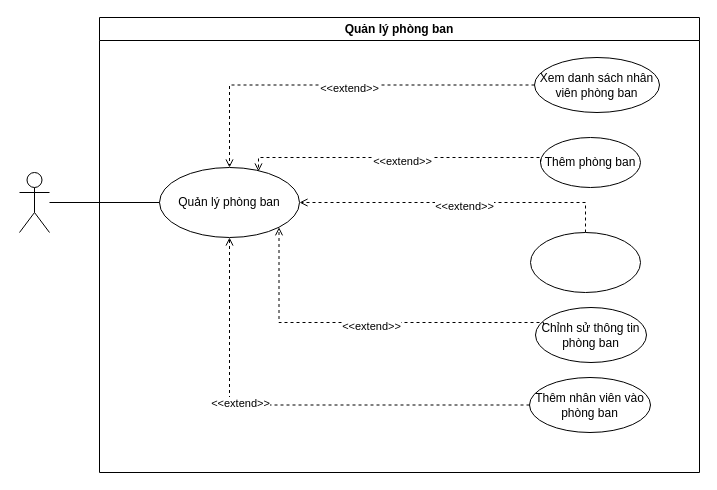
Some shapes in this 717 by 490 pixel diagram are drawn without their labels. Here are the shapes that lost their labels. From the top down, the box of each, then its label:
(18, 172, 50, 232): Admin
(530, 232, 640, 292): Xóa phòng ban
